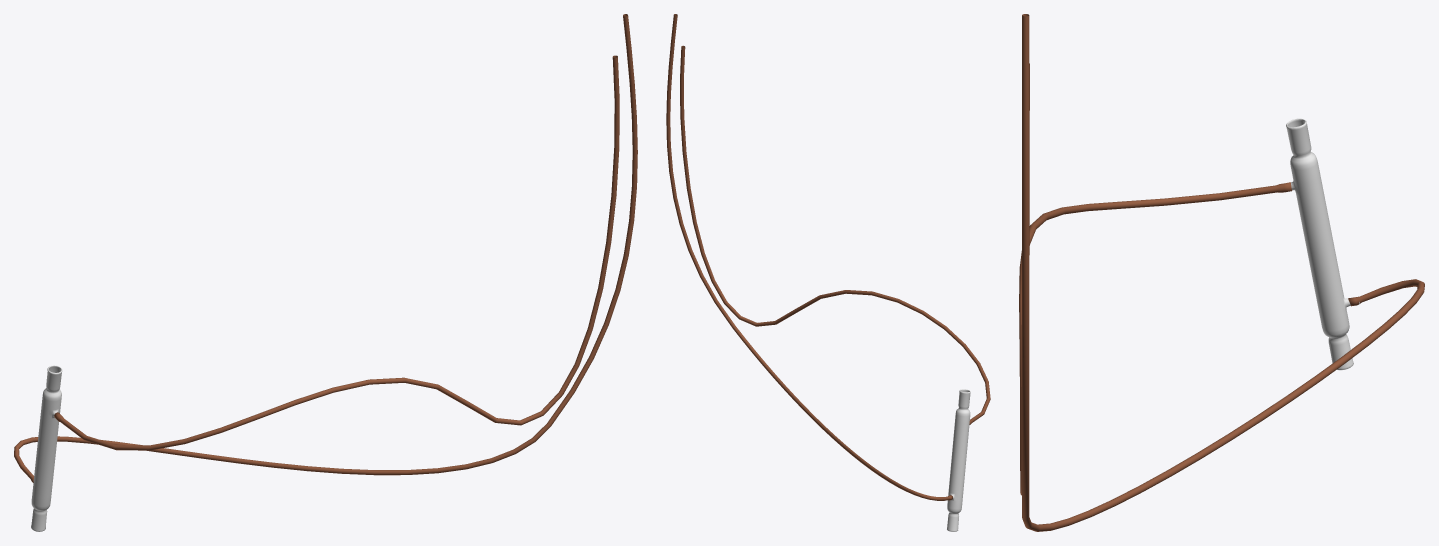
The model's file is Condenser_tube.dae.
3 views of the same model, side by side, from view 1: azimuth 30°, elevation 25°; view 2: azimuth 150°, elevation 25°; view 3: azimuth 270°, elevation 25° (orthographic). The views are drawn at different scales.
Visible parts, largest first — view 1: Water hose 2, Water hose 1, Condenser tube; view 2: Water hose 1, Water hose 2, Condenser tube; view 3: Water hose 2, Condenser tube, Water hose 1.
Boxes of the visible parts, <box> form: Water hose 2: <box>14,14,637,482</box>; Water hose 1: <box>54,55,619,450</box>; Condenser tube: <box>31,365,62,531</box>; Water hose 1: <box>680,45,990,424</box>; Water hose 2: <box>666,14,952,500</box>; Condenser tube: <box>947,389,970,531</box>; Water hose 2: <box>1022,14,1424,531</box>; Condenser tube: <box>1286,118,1359,370</box>; Water hose 1: <box>1019,63,1292,495</box>.
Size of the model in its own units: 0.8805 by 0.4398 by 0.8153.
